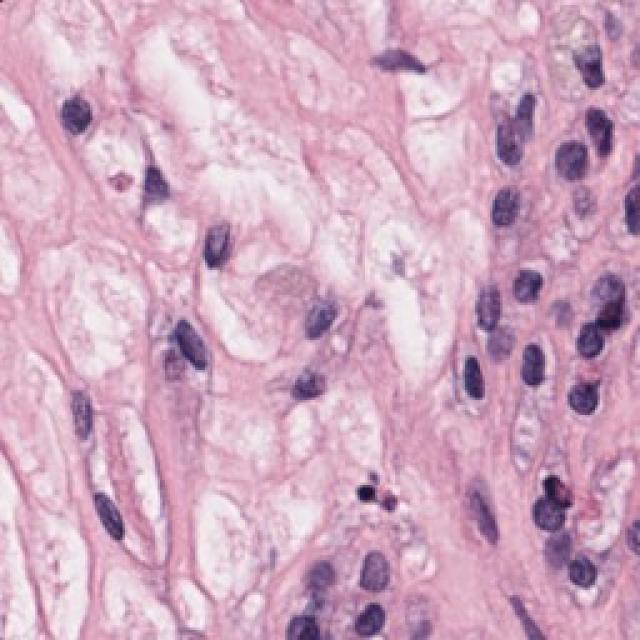normal: (510, 454, 591, 532), (553, 301, 631, 378), (451, 283, 538, 351), (549, 132, 619, 216), (341, 524, 401, 599), (472, 181, 532, 255)
